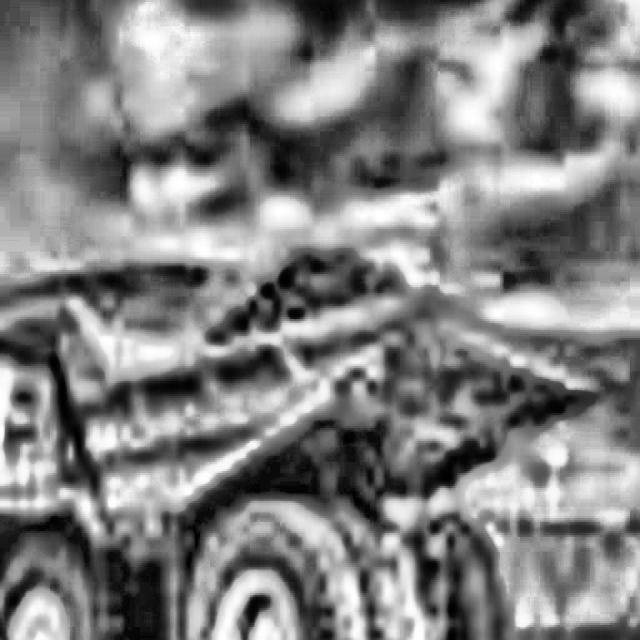dump_truck: (0, 221, 595, 640)
